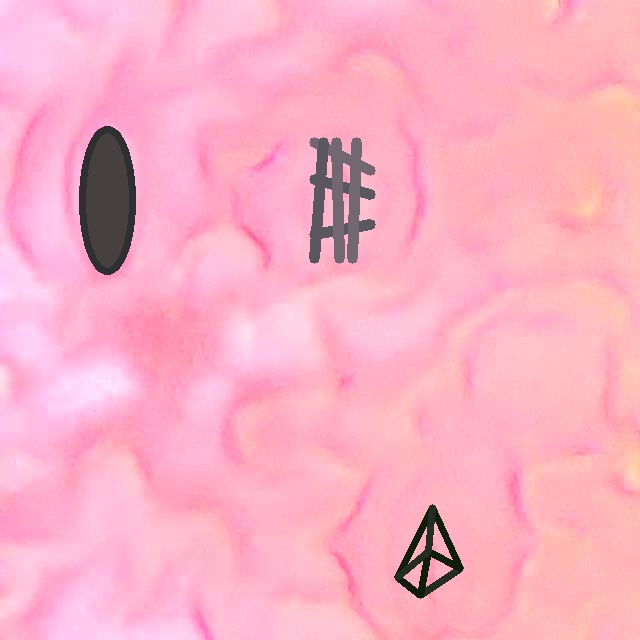close: (309, 138, 375, 263), (394, 504, 463, 598)
open: (79, 126, 135, 274)
